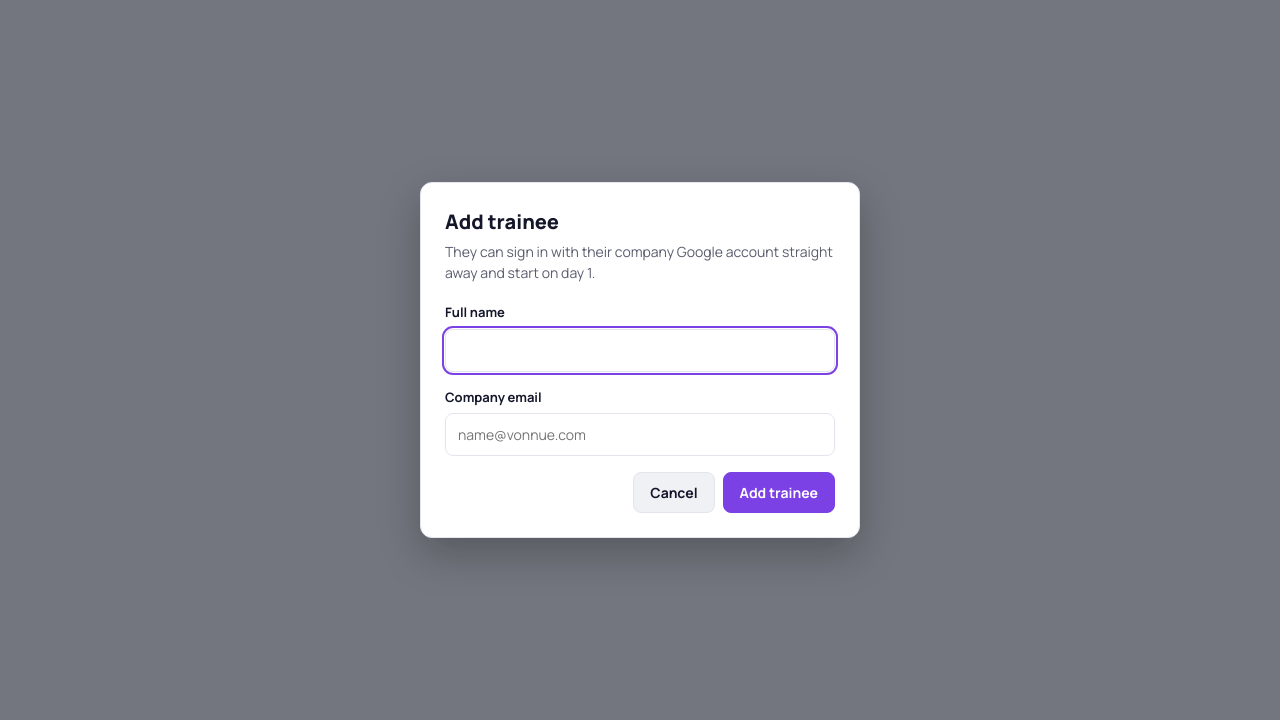
Test: AddTraineeDialog › shows a duplicate email under the email field and lets the mentor try again
The image size is (1280, 720).
Type "Asha Rao" into the field labelled "Full name" at (640,350), box [445,328,835,372]
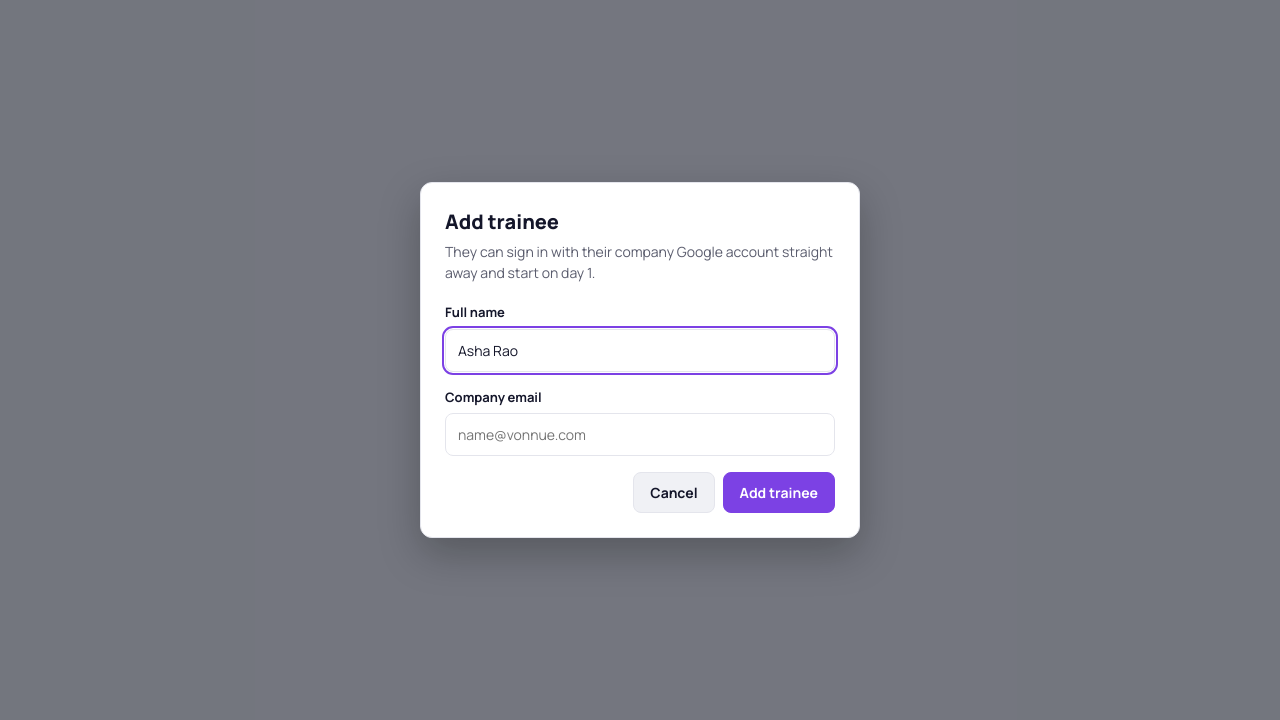
Type "asha.rao@vonnue.com" into the field labelled "Company email" at (640,434), box [445,413,835,456]
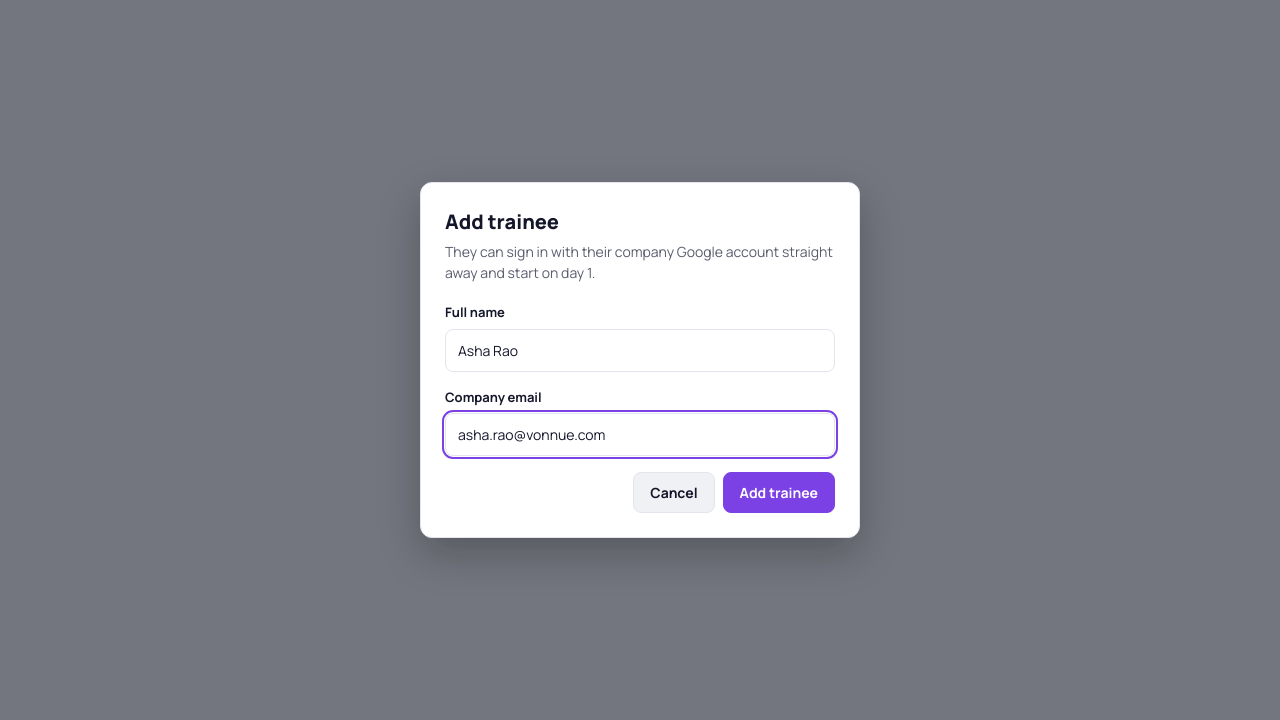
Click the button "Add trainee" at (779,492), box [723,472,835,513]
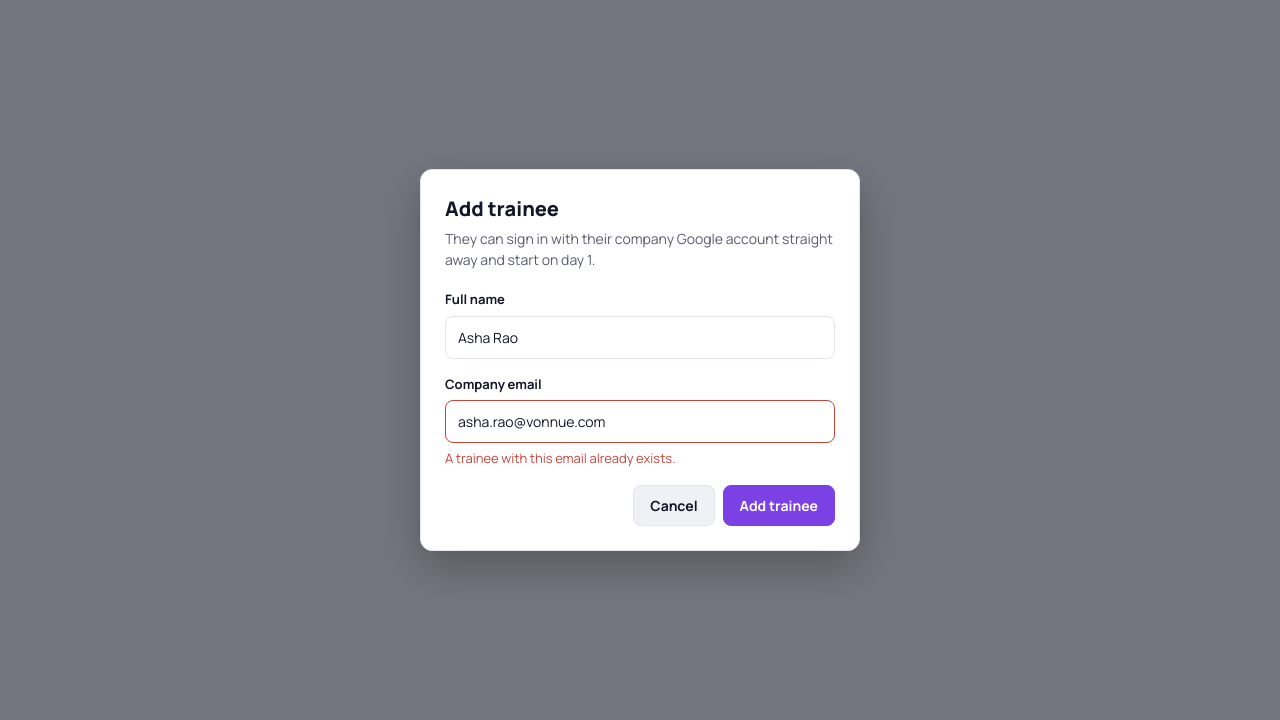
Check: the button "Add trainee" is enabled, box [723,485,835,526]
Check: the text "A trainee with this email already exists." is shown, box [445,449,676,467]
